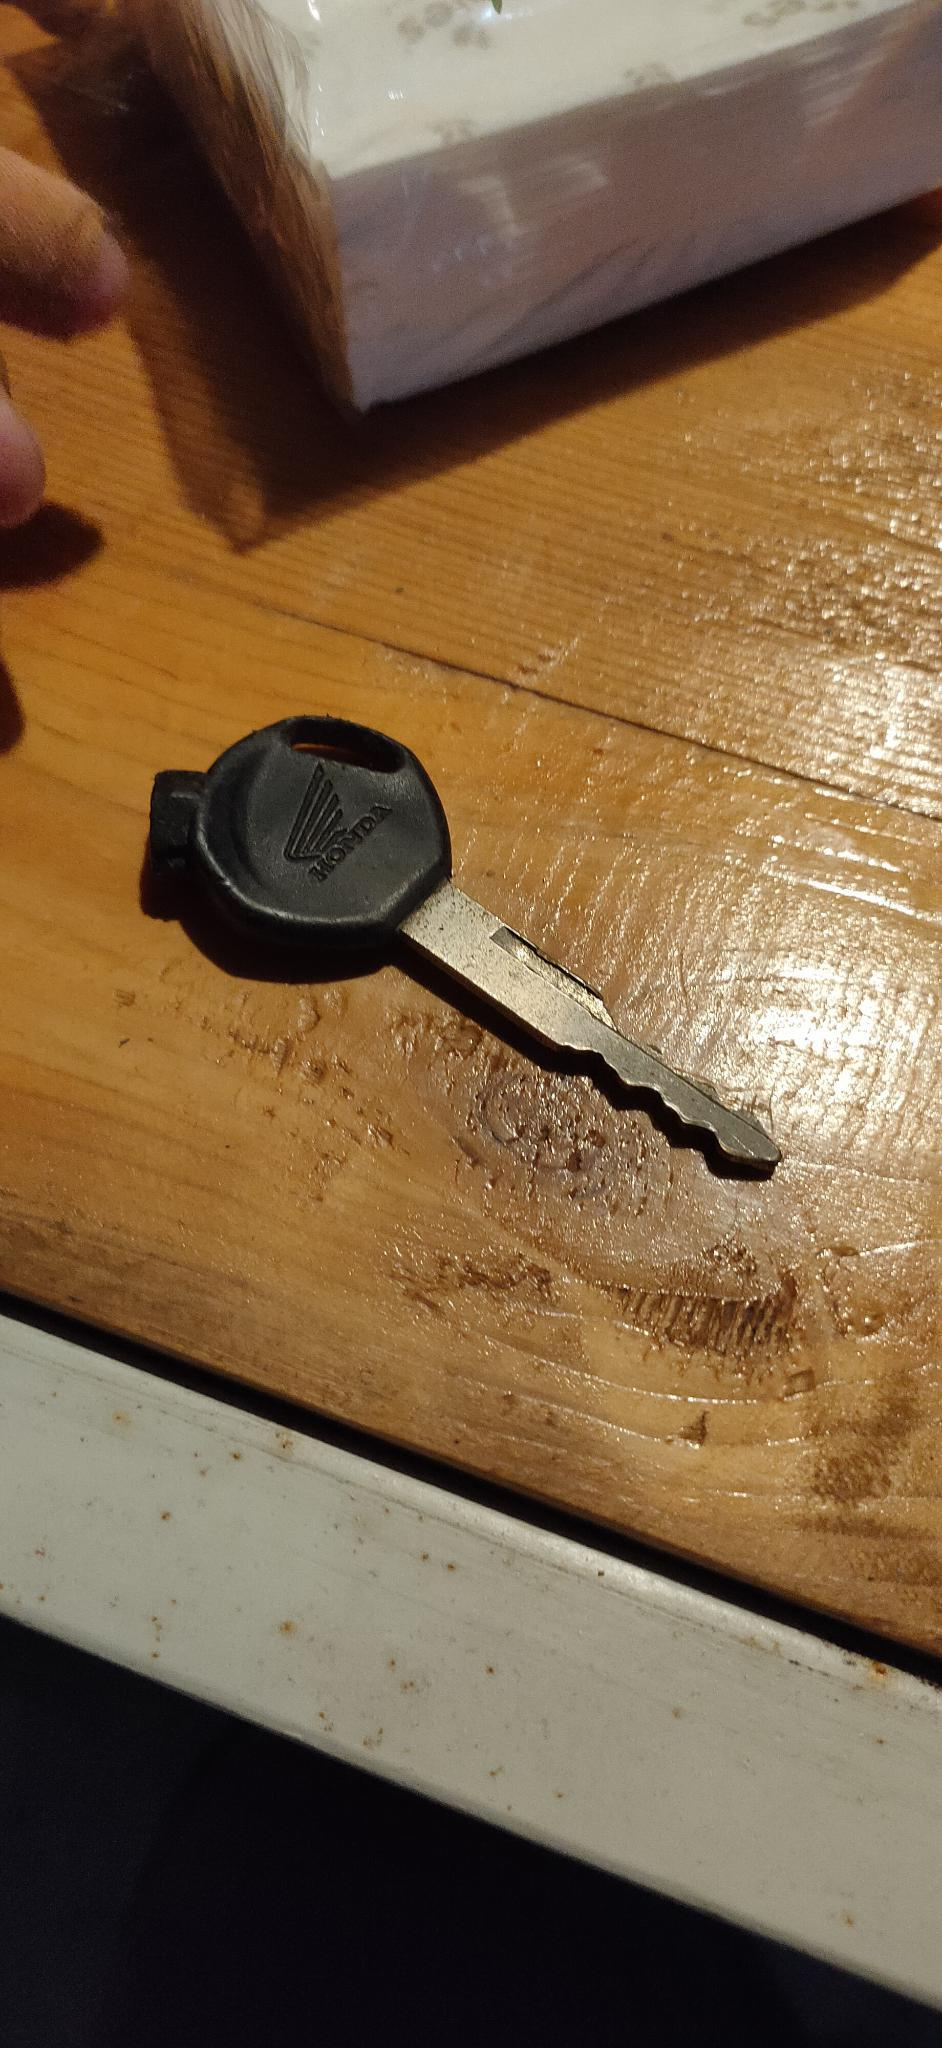keys: (135, 682, 789, 1183)
